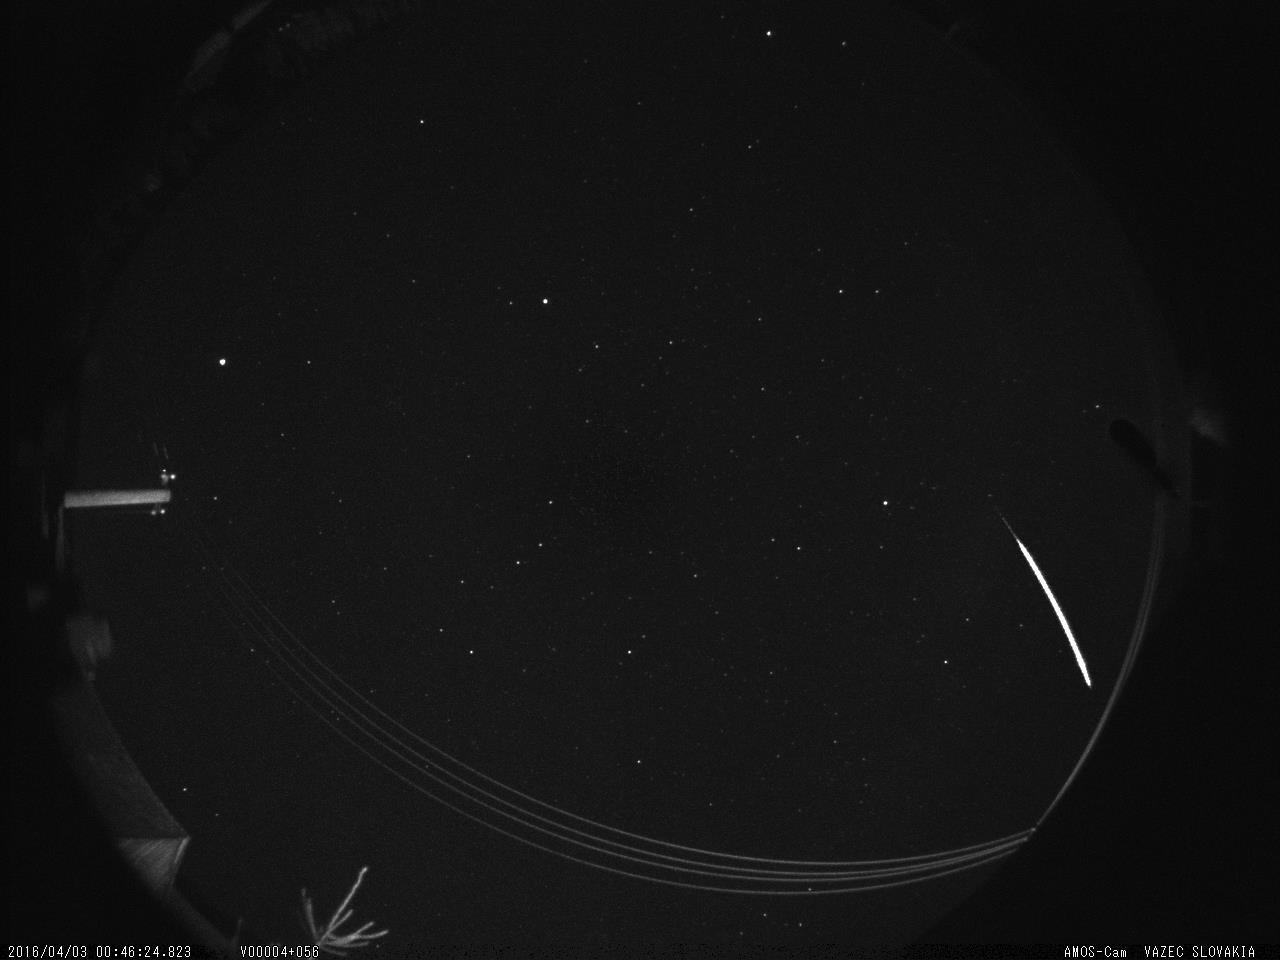Meteor: (979, 489, 1101, 695)
